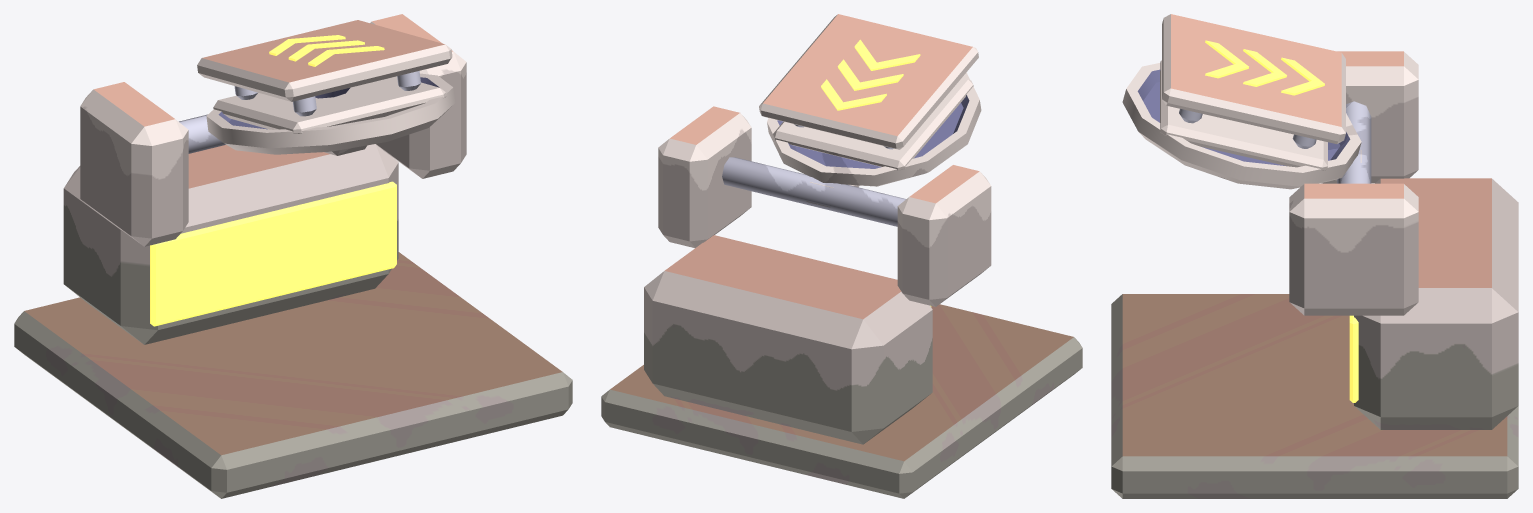
Rendered from R4X_KnockbackTrapDeployer_LOD1.glb.
3 views of the same model, side by side, from view 1: azimuth 30°, elevation 25°; view 2: azimuth 150°, elevation 25°; view 3: azimuth 270°, elevation 25° (orthographic). The views are drawn at different scales.
Visible parts, largest first — view 1: R4X_KnockbackTrapDeployer_LOD1; view 2: R4X_KnockbackTrapDeployer_LOD1; view 3: R4X_KnockbackTrapDeployer_LOD1.
Boxes of the visible parts, <box> form: R4X_KnockbackTrapDeployer_LOD1: <box>14,14,572,498</box>; R4X_KnockbackTrapDeployer_LOD1: <box>601,14,1082,498</box>; R4X_KnockbackTrapDeployer_LOD1: <box>1111,14,1518,498</box>.
Bounding box in the file's own units: 0.52 × 0.5166 × 0.52.
Materials: 5 (4 with a texture image).
